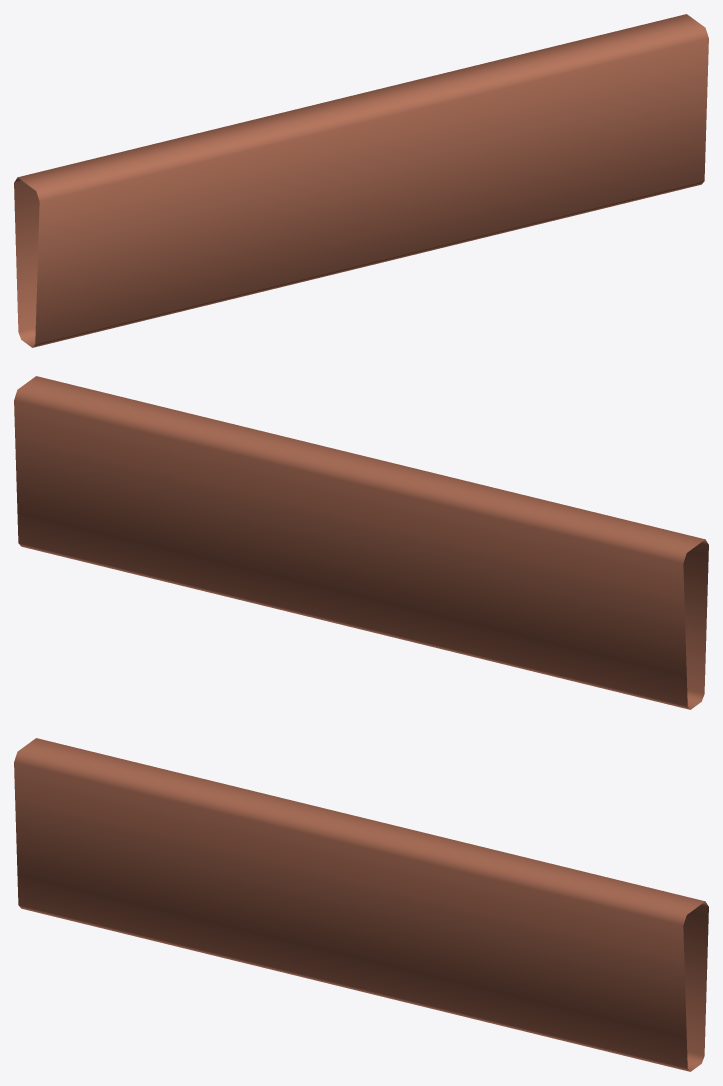
The model's file is Fence_Connector_01.fbx.
3 renders of one model, top to bottom at view 1: azimuth 30°, elevation 25°; view 2: azimuth 150°, elevation 25°; view 3: azimuth 330°, elevation 25°, orthographic.
Visible parts, largest first — view 1: Fence_Connector_01; view 2: Fence_Connector_01; view 3: Fence_Connector_01.
Part boxes in pixels (left/top/right/bottom): Fence_Connector_01: left=14, top=14, right=708, bottom=347; Fence_Connector_01: left=14, top=376, right=708, bottom=709; Fence_Connector_01: left=14, top=738, right=708, bottom=1071.
Size of the model in its own units: 123 by 28.05 by 8.17.
